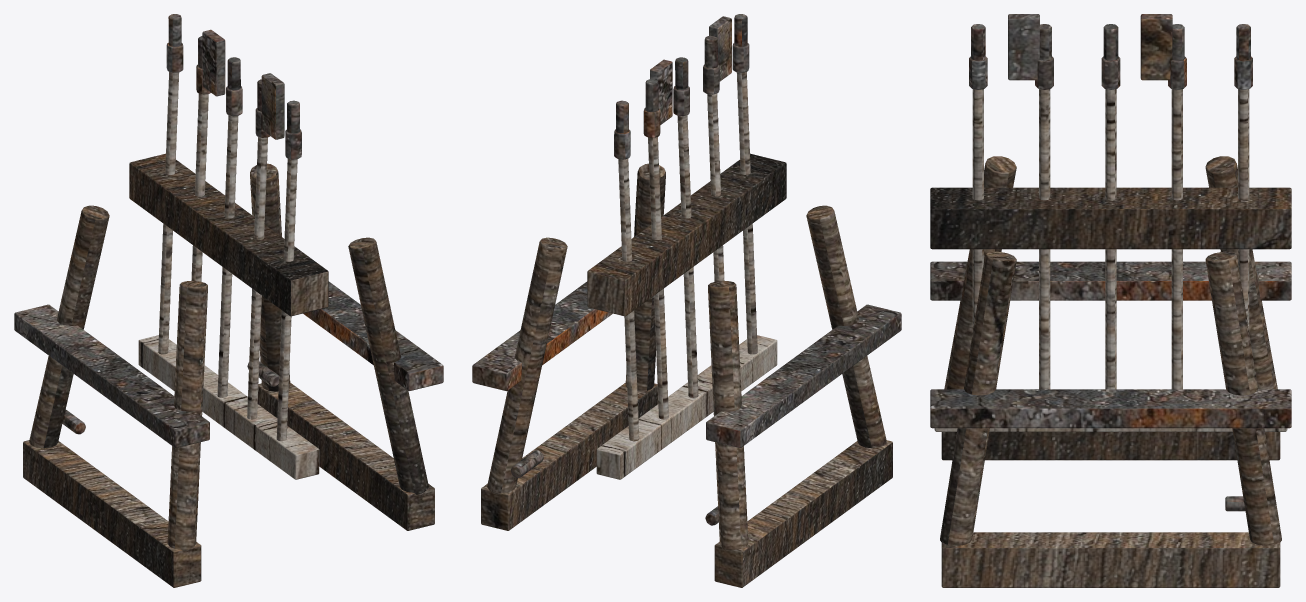
The model's file is watchtower-arms-rack-v01.glb.
3 views of the same model, side by side, from view 1: azimuth 30°, elevation 25°; view 2: azimuth 150°, elevation 25°; view 3: azimuth 270°, elevation 25° (orthographic). The views are drawn at different scales.
Visible parts, largest first — view 1: watchtower-arms-rack-v01; view 2: watchtower-arms-rack-v01; view 3: watchtower-arms-rack-v01.
Part boxes in pixels (x1,y1,x2,y2): watchtower-arms-rack-v01: (14,14,443,587); watchtower-arms-rack-v01: (472,14,901,587); watchtower-arms-rack-v01: (930,14,1291,587).
Size of the model in its own units: 1.52 by 2.43 by 1.58.
3 materials, 3 textured.
